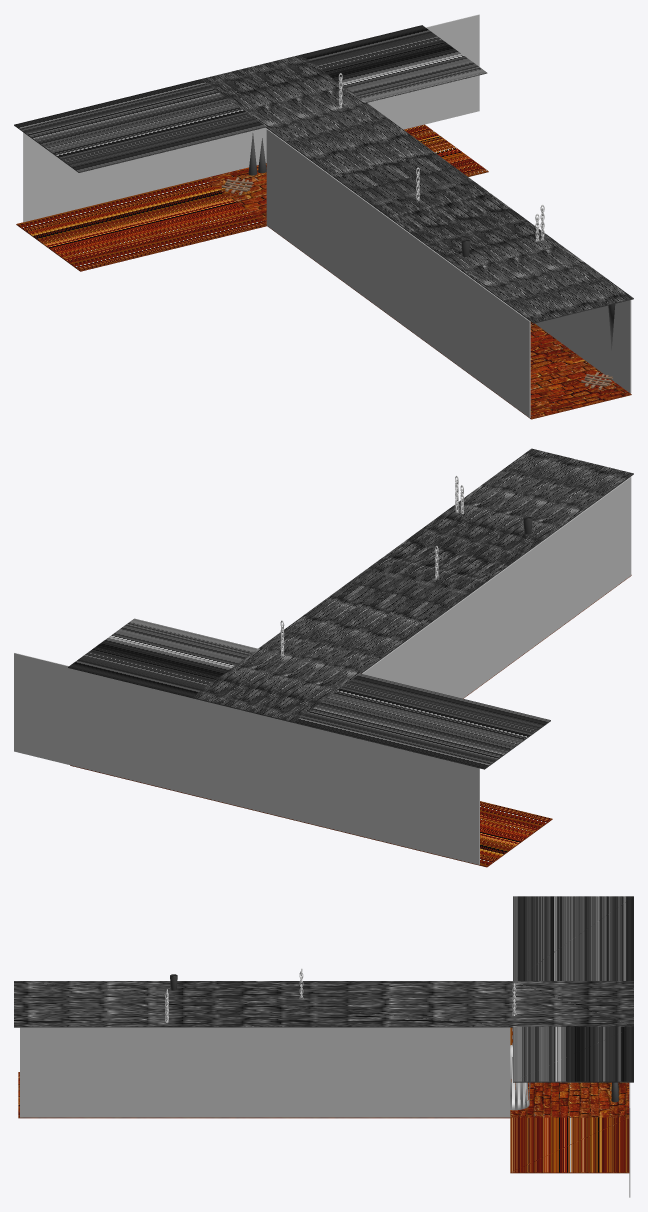
The model's file is Menu Background.fbx.
3 views of the same model, one above another, from view 1: azimuth 30°, elevation 25°; view 2: azimuth 150°, elevation 25°; view 3: azimuth 270°, elevation 25° (orthographic). The views are drawn at different scales.
Parts seen in each view (by area): view 1: Roof, West Wall, Floor, North Wall, East Wall; view 2: Roof, North Wall, West Wall, Floor; view 3: Roof, East Wall, Floor, Cage.
Boxes of the visible parts, x1,y1,x2,y2 form: Roof: (14, 25, 633, 323); West Wall: (266, 129, 530, 417); Floor: (16, 124, 631, 419); North Wall: (23, 14, 479, 222); East Wall: (535, 300, 631, 393); Roof: (68, 448, 633, 769); North Wall: (14, 653, 479, 864); West Wall: (362, 477, 631, 698); Floor: (70, 575, 631, 867); Roof: (14, 896, 633, 1082); East Wall: (20, 1027, 510, 1117); Floor: (18, 1027, 629, 1173); Cage: (510, 1045, 530, 1110).
Bounding box in the file's own units: 2750 × 761 × 3423.
